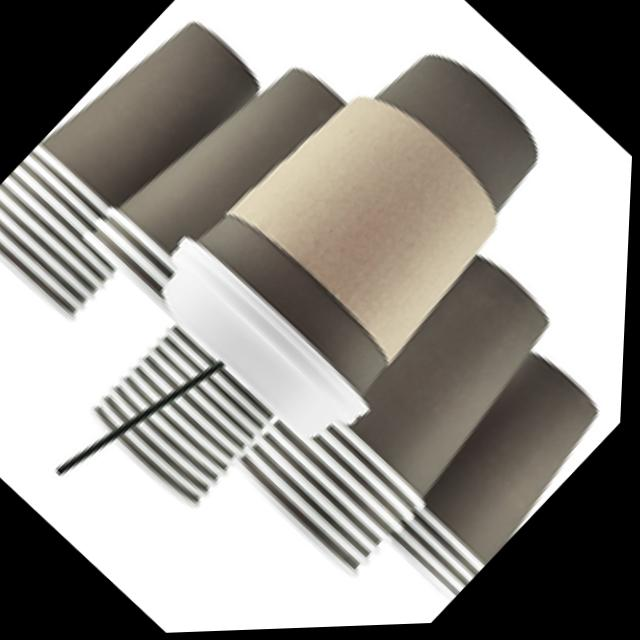paper_cups: (131, 2, 595, 469), (0, 0, 292, 334), (73, 33, 353, 320), (303, 255, 584, 540), (387, 366, 623, 606)
